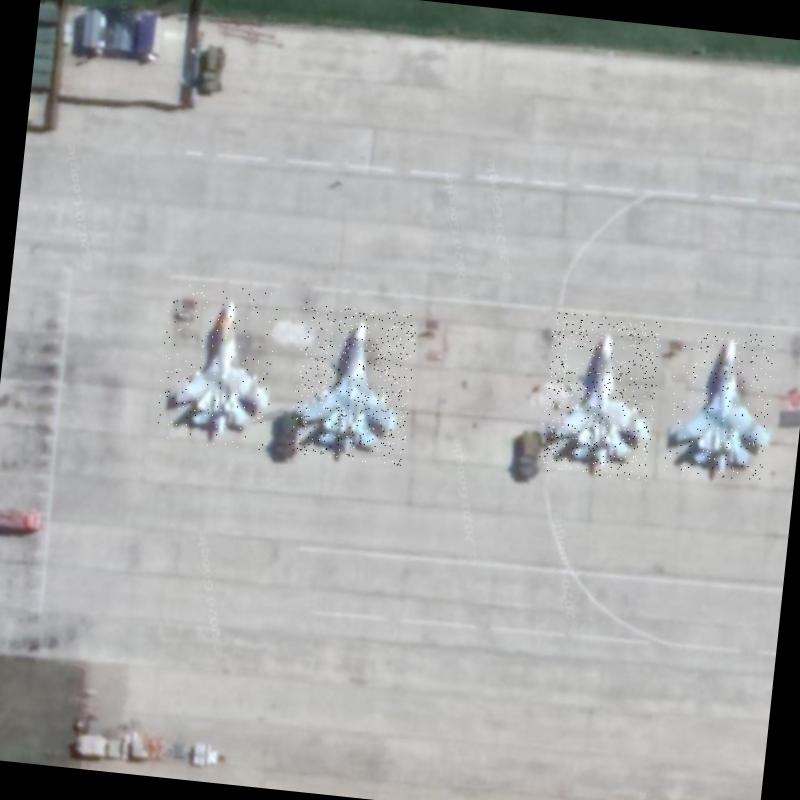A1: (153, 280, 282, 451), (288, 302, 418, 466), (538, 310, 662, 481), (663, 326, 778, 482)
